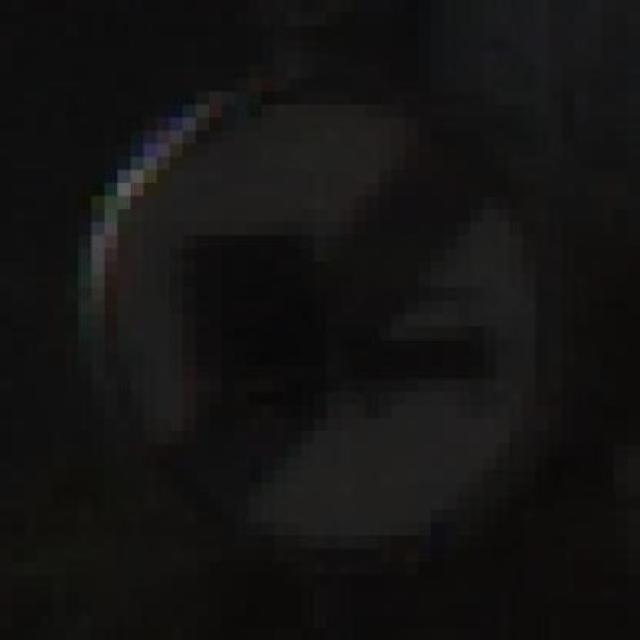Overtaking by trucks is prohibited: (26, 52, 588, 576)
